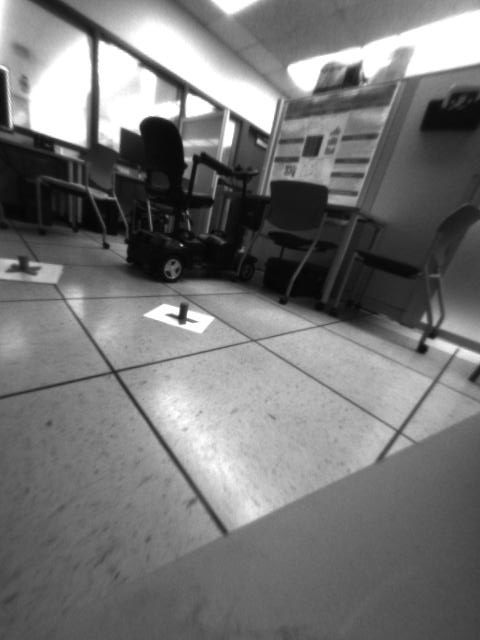X: (1, 251, 41, 278), (163, 301, 200, 324)
